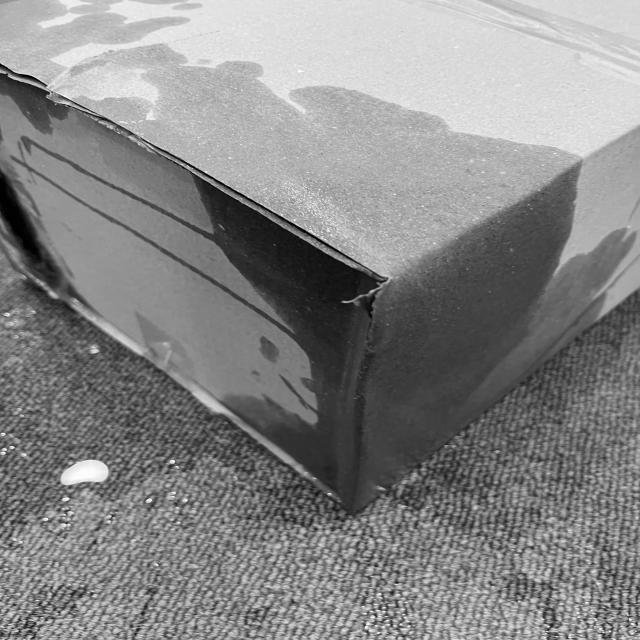wet: (196, 88, 576, 509)
